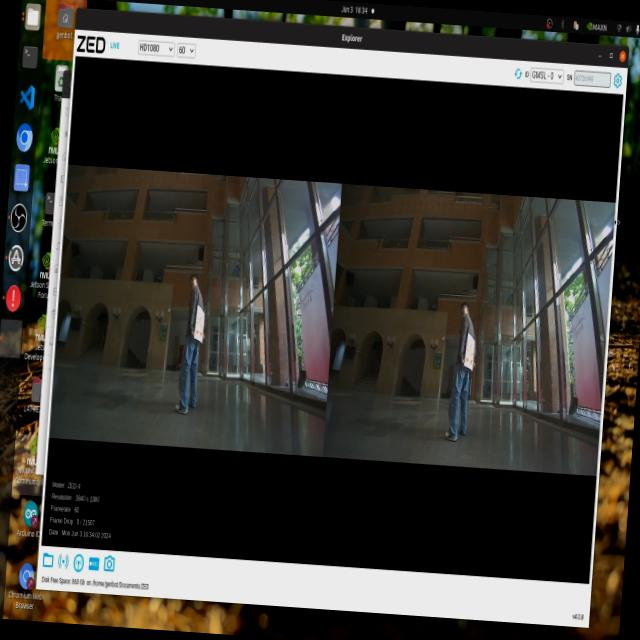red: (195, 308, 205, 340), (466, 342, 474, 370)
